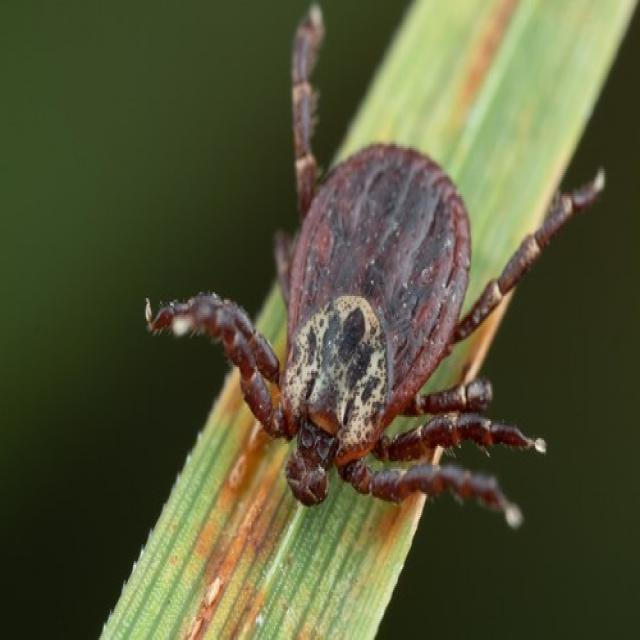Dermacentor Reticulatus-F: (151, 4, 608, 530)
